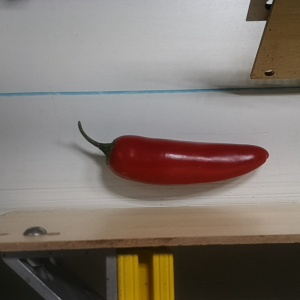Cut Point: (98, 134, 132, 174)
